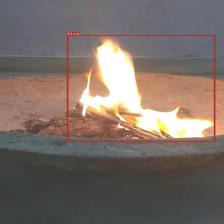fire: (66, 35, 215, 142)
